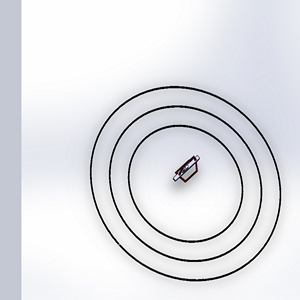circle: (81, 78, 289, 285)
submarine: (165, 149, 210, 193)
